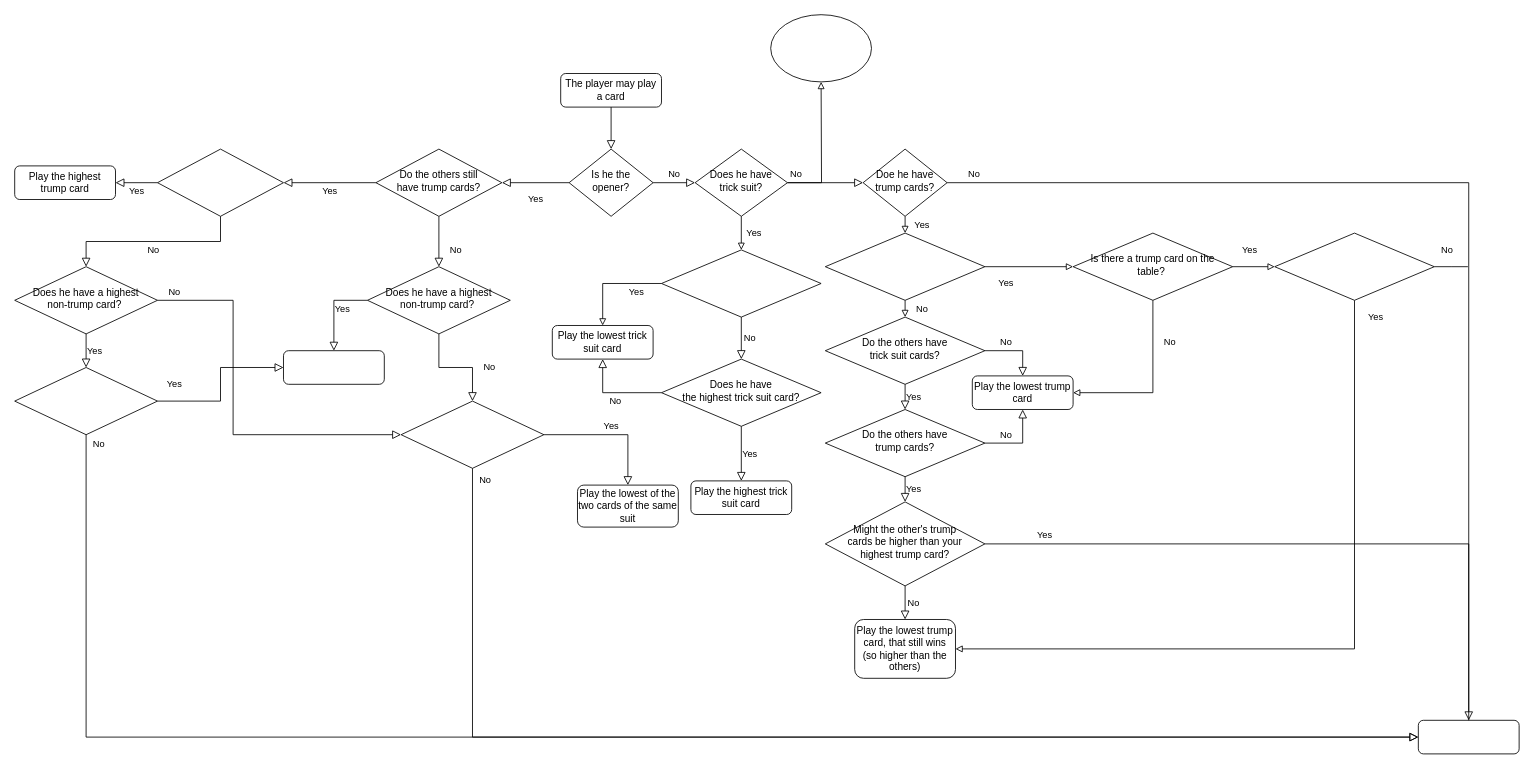
Image size: 1534x769. Some labels were removed from this diagram. Each missing label, with the centre of its shape:
"Did someone play a trump card?" goes at pixel 741 283.
"Do the other still have cards of that suit?" goes at pixel 86 401.
"Does he have a higher trump card?" goes at pixel 1354 266.
"Does he have the highest trump card?" goes at pixel 220 182.
"Does he have two cards of the same suit?" goes at pixel 472 434.
"Is he the last player?" goes at pixel 904 266.
"Play the highest non-trump card" goes at pixel 333 367.
"Play the worst card*" goes at pixel 1468 736.
"Public Announcement" goes at pixel 821 48.
